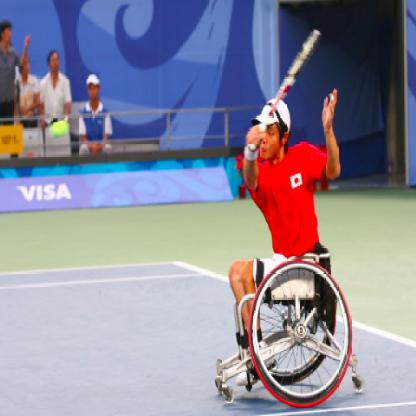wheelchair: (223, 96, 365, 406)
